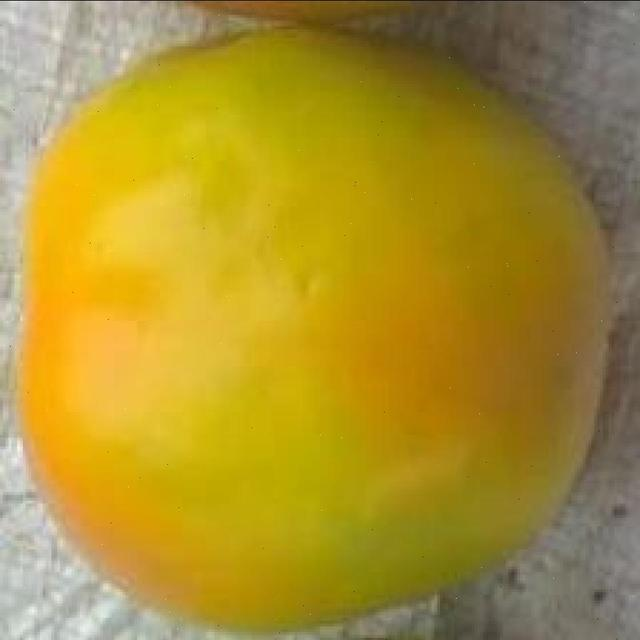Spotted wilt Virus Fruit: (10, 16, 409, 423)
